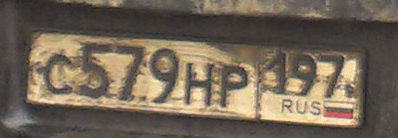character: (148, 44, 180, 107), (79, 40, 111, 100), (115, 42, 147, 102), (182, 60, 215, 109), (315, 51, 346, 102), (44, 52, 74, 98), (292, 49, 319, 99), (220, 64, 247, 112), (267, 50, 294, 96)
